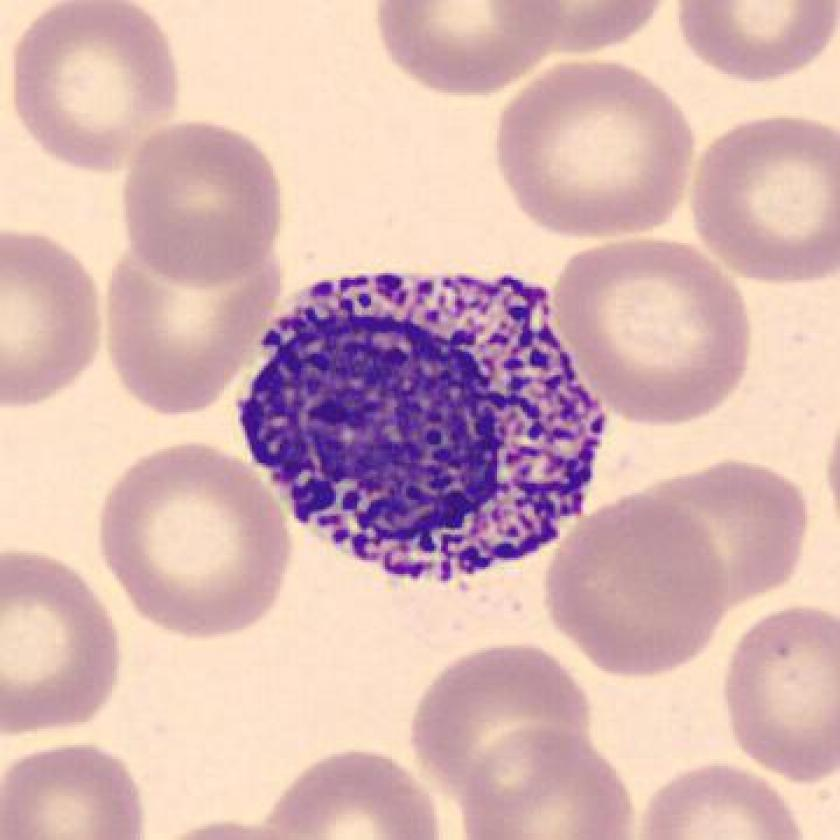basophil: (237, 272, 605, 582)
